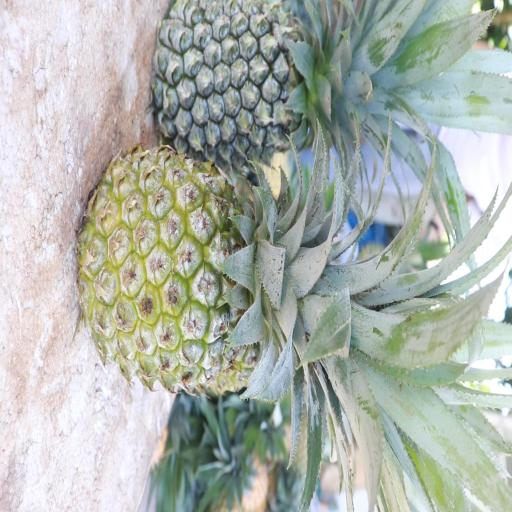------------------------------: (73, 130, 362, 382)
